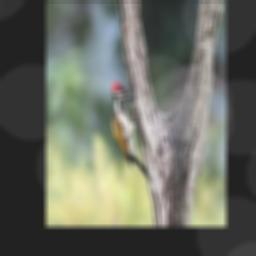Woodpecker: (112, 83, 151, 180)
